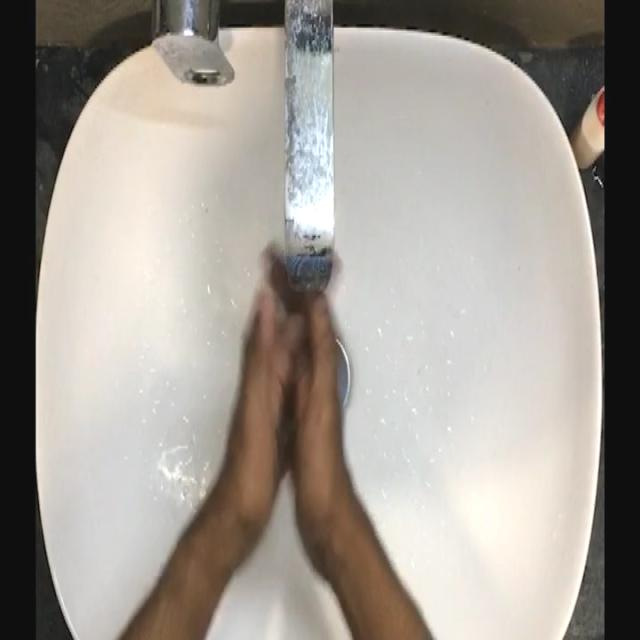step_3: (226, 223, 366, 525)
